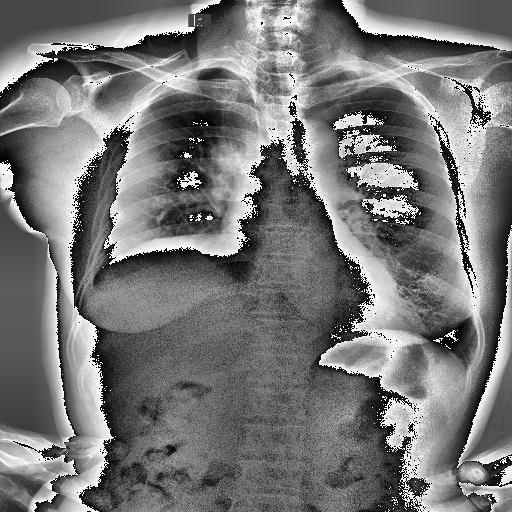11- Pleural thickening: (146, 66, 196, 100)
13- Pulmonary fibrosis: (170, 120, 240, 178), (166, 186, 224, 228)
7- Lung Opacity: (209, 141, 239, 174)
8- Nodule-Mass: (210, 141, 242, 178), (210, 139, 242, 175), (209, 141, 239, 174)
9- Other lesion: (88, 228, 226, 293), (99, 222, 261, 276), (210, 139, 242, 175)
